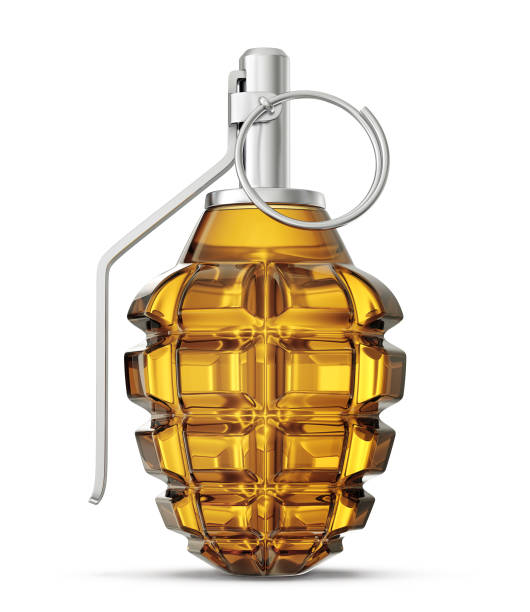e1: (93, 45, 407, 574)
